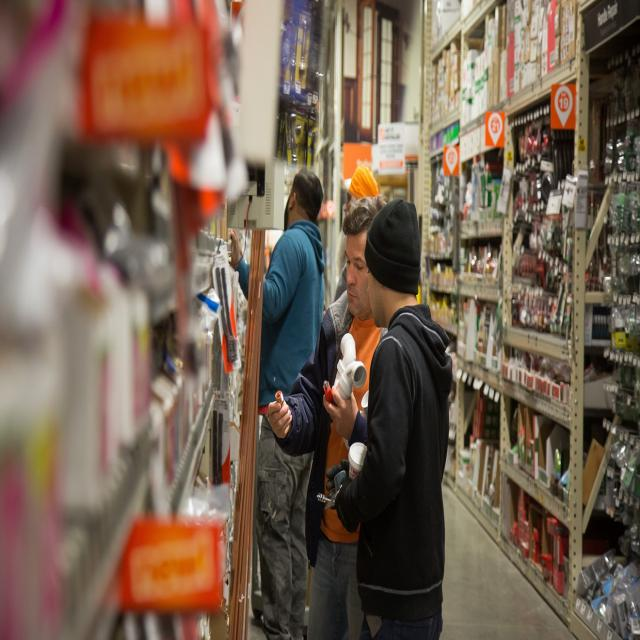body: (314, 197, 454, 639), (267, 196, 395, 640), (228, 167, 327, 639), (328, 163, 382, 305)
